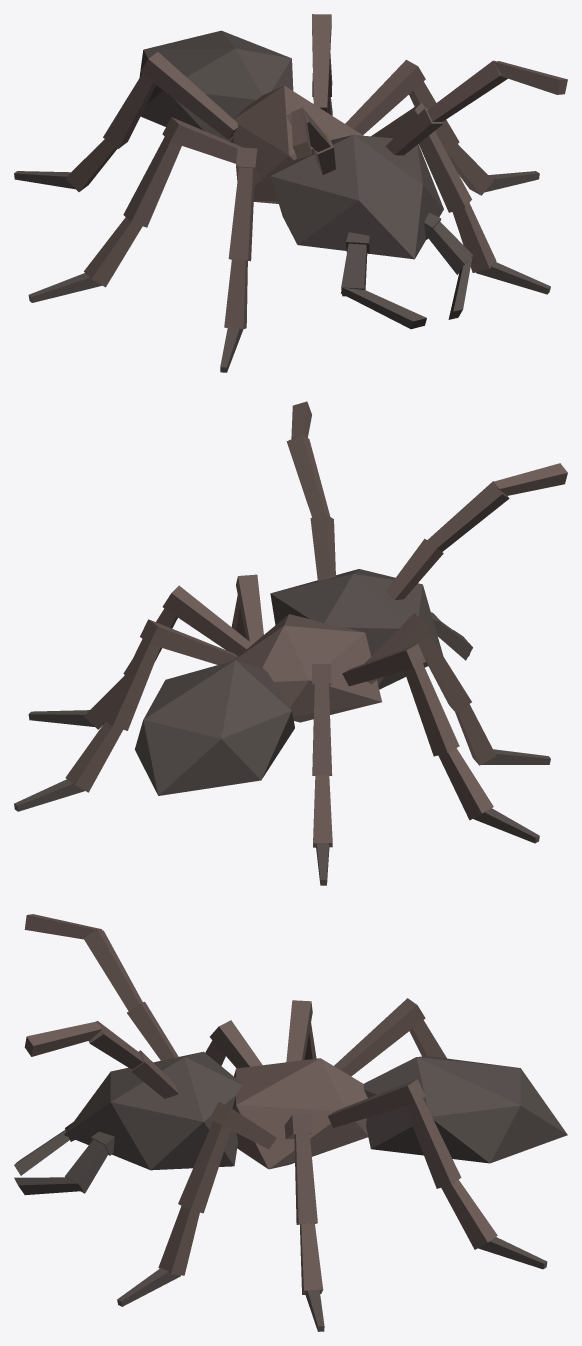
Rendered from ant1.glb.
3 views of the same model, one above another, from view 1: azimuth 30°, elevation 25°; view 2: azimuth 150°, elevation 25°; view 3: azimuth 270°, elevation 25° (orthographic).
Parts seen in each view (by area): view 1: Ant1; view 2: Ant1; view 3: Ant1.
Part boxes in pixels (x1=…): Ant1: x1=14, y1=14, x2=567, y2=372; Ant1: x1=14, y1=401, x2=567, y2=885; Ant1: x1=14, y1=914, x2=567, y2=1331.
Bounding box in the file's own units: 0.2417 × 0.117 × 0.232.
